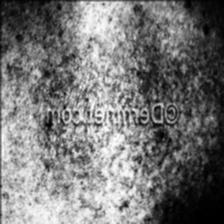Non-Cancerous Skin Condition: (7, 13, 224, 216)
